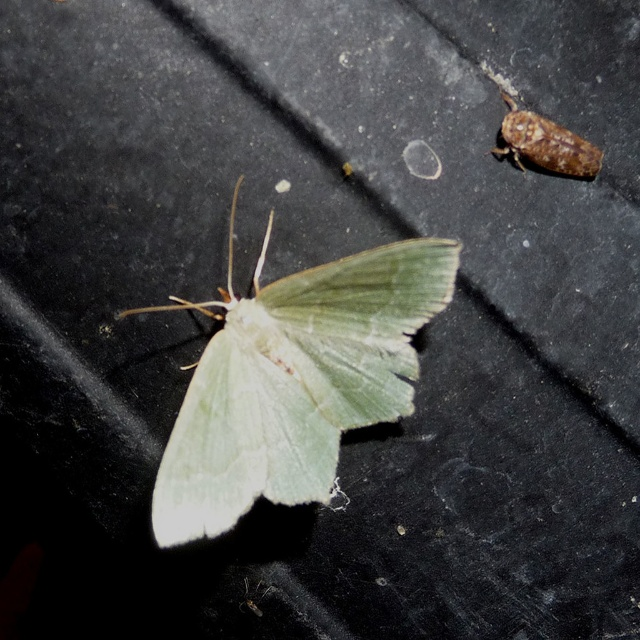Butterfly: (107, 177, 448, 531)
